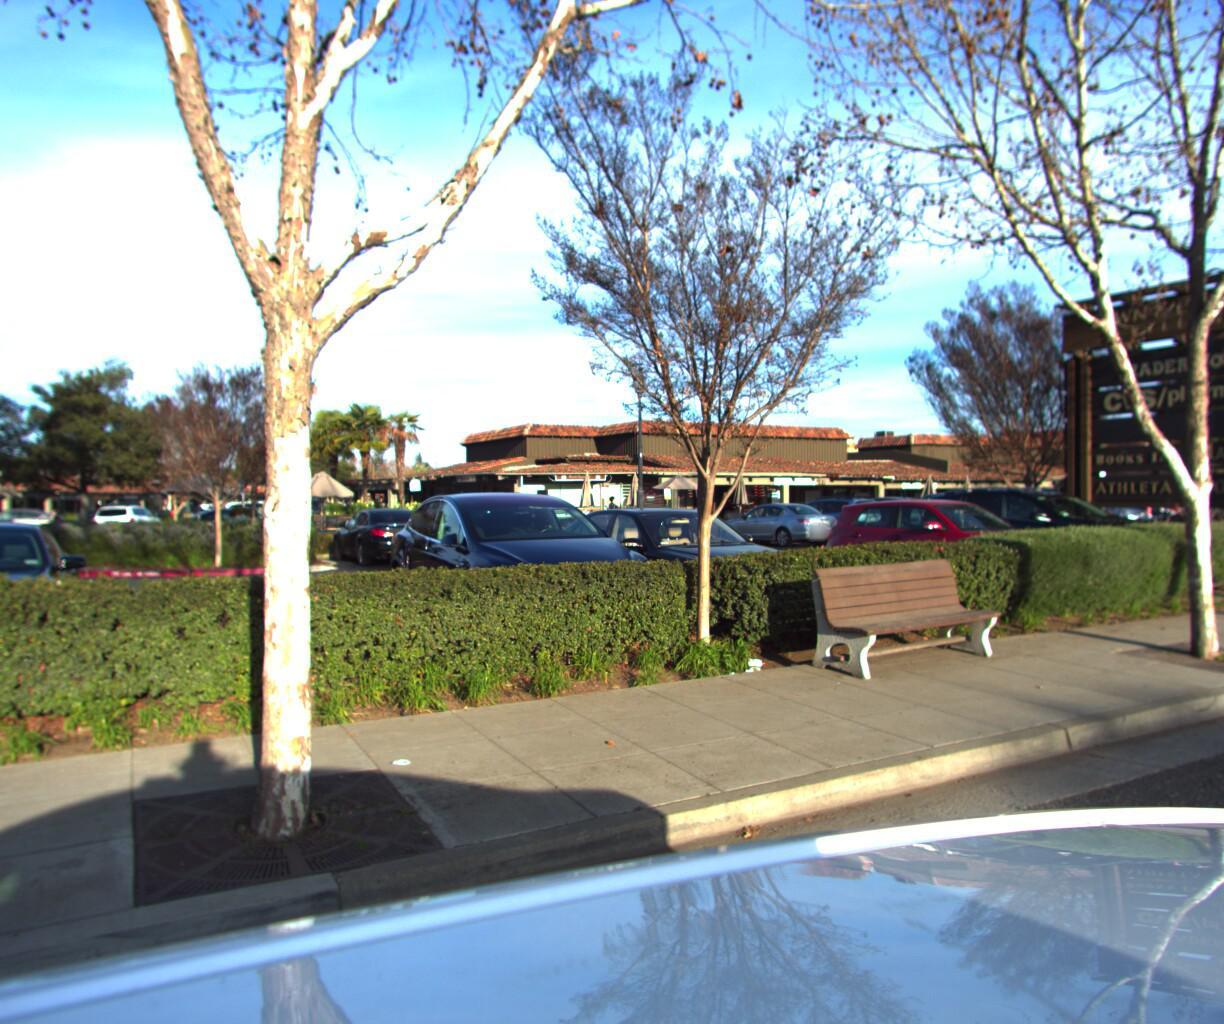car: (375, 482, 671, 676), (536, 500, 812, 639), (810, 491, 1068, 606), (926, 474, 1176, 575), (0, 515, 72, 728), (1123, 478, 1224, 556)
